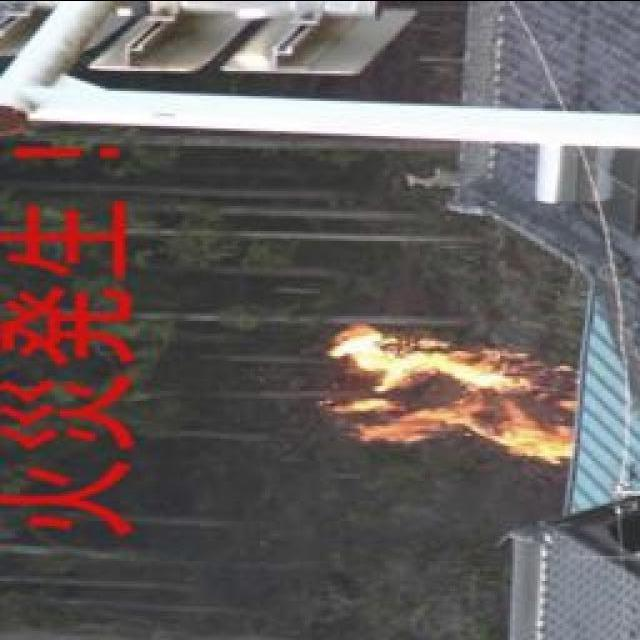Fire: (328, 306, 580, 462)
